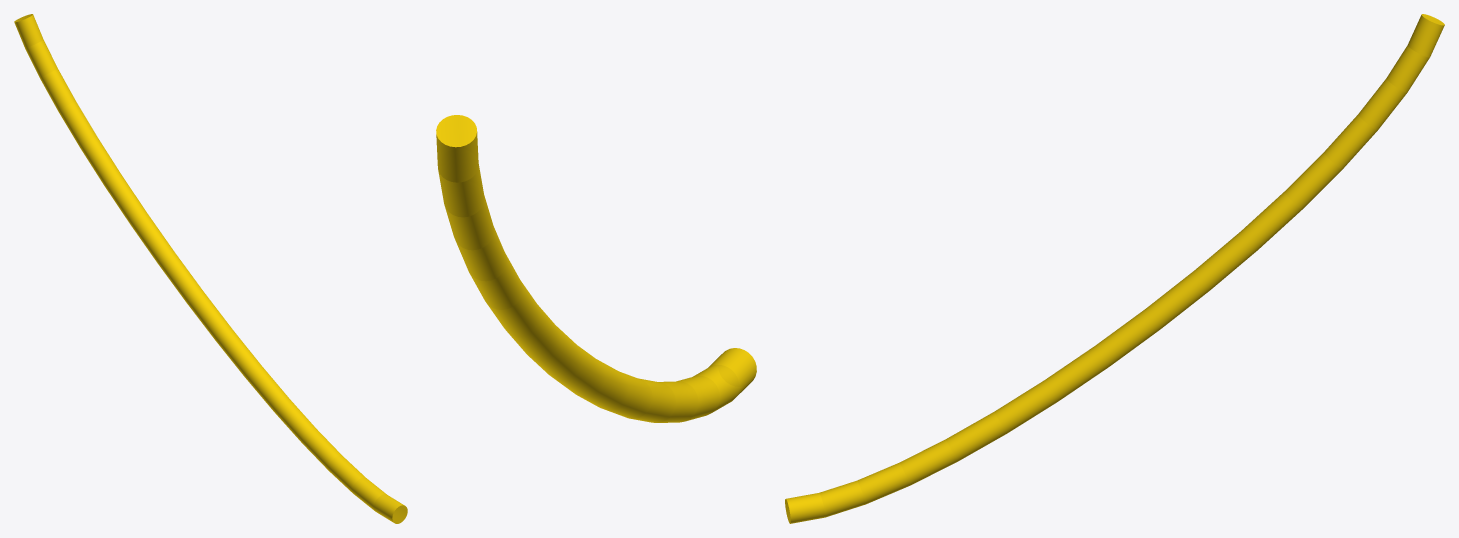
Rendered from Event_421278790_track_17.fbx.
3 views of the same model, side by side, from view 1: azimuth 30°, elevation 25°; view 2: azimuth 150°, elevation 25°; view 3: azimuth 270°, elevation 25° (orthographic). The views are drawn at different scales.
Parts seen in each view (by area): view 1: Model; view 2: Model; view 3: Model.
Boxes of the visible parts, x1,y1,x2,y2 form: Model: [14, 14, 407, 523]; Model: [436, 115, 756, 422]; Model: [785, 14, 1444, 523].
Size of the model in its own units: 0.3042 by 0.7506 by 1.03.
